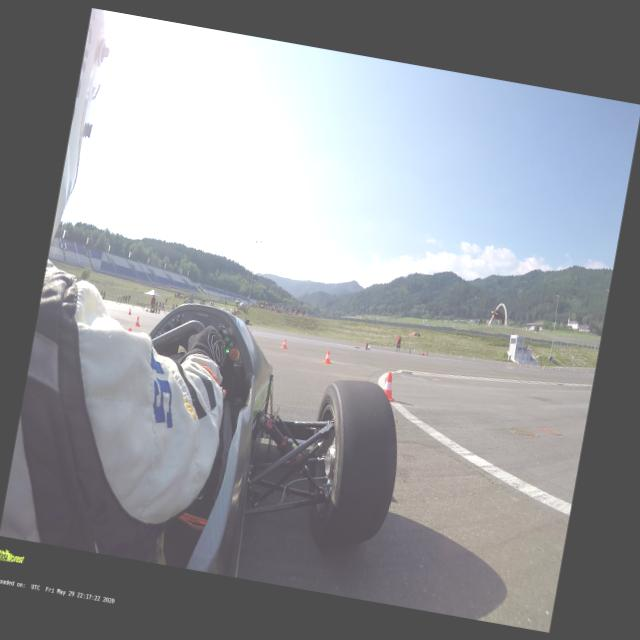orange_cone: (382, 371, 398, 400), (323, 349, 333, 364), (280, 338, 288, 348), (134, 315, 141, 326), (127, 308, 132, 316), (128, 327, 132, 331), (472, 357, 474, 360), (250, 331, 252, 334)
